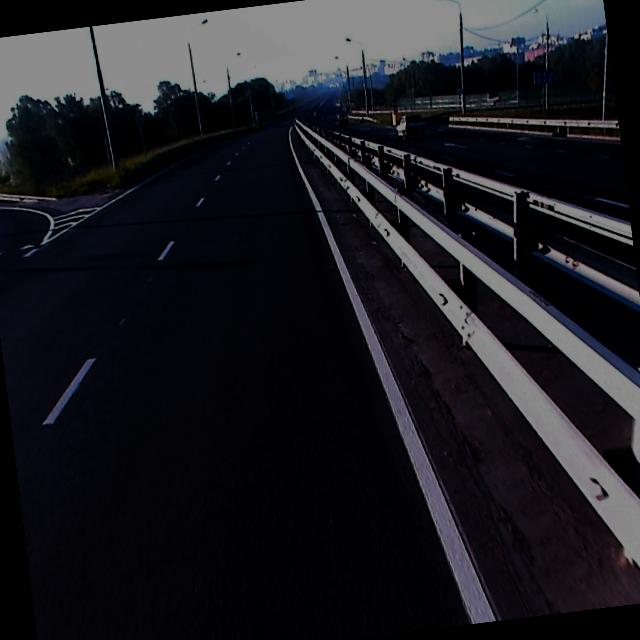road: (0, 126, 635, 640)
